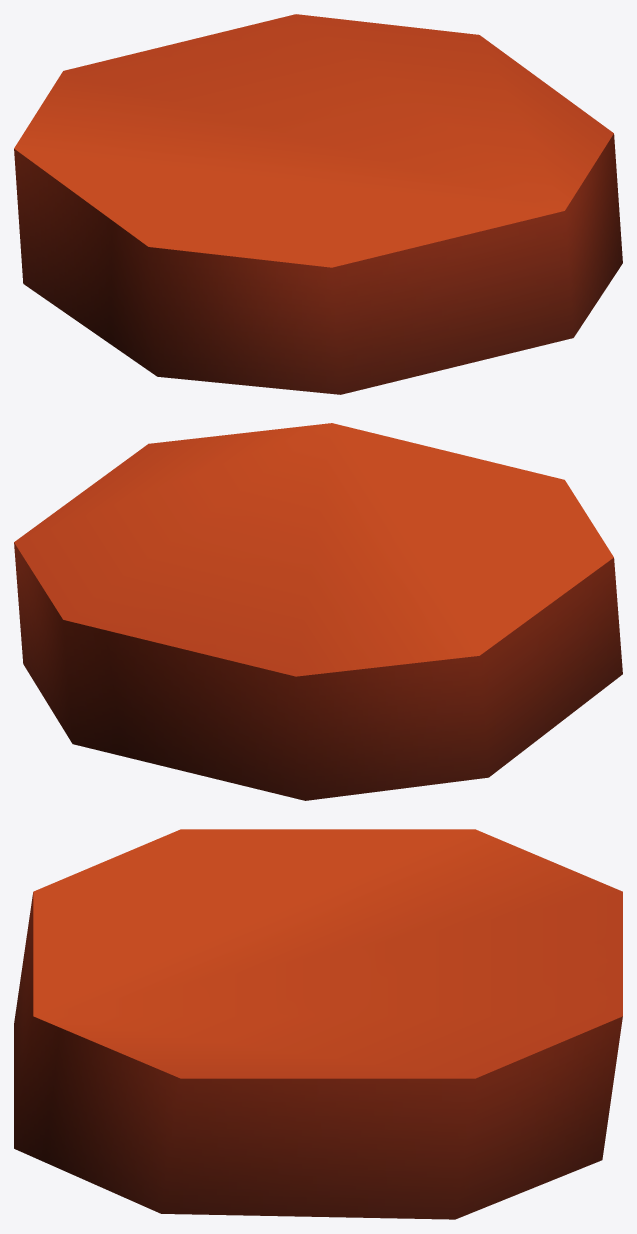
File: sausage_slice.fbx
3 renders of one model, top to bottom at view 1: azimuth 30°, elevation 25°; view 2: azimuth 150°, elevation 25°; view 3: azimuth 270°, elevation 25°, orthographic. The views are drawn at different scales.
Visible parts, largest first — view 1: sausage_slice; view 2: sausage_slice; view 3: sausage_slice.
Boxes of the visible parts, x1=… form: sausage_slice: x1=14, y1=14, x2=622, y2=394; sausage_slice: x1=14, y1=423, x2=622, y2=800; sausage_slice: x1=14, y1=829, x2=622, y2=1219.
Bounding box in the file's own units: 14.38 × 3.87 × 14.85.
